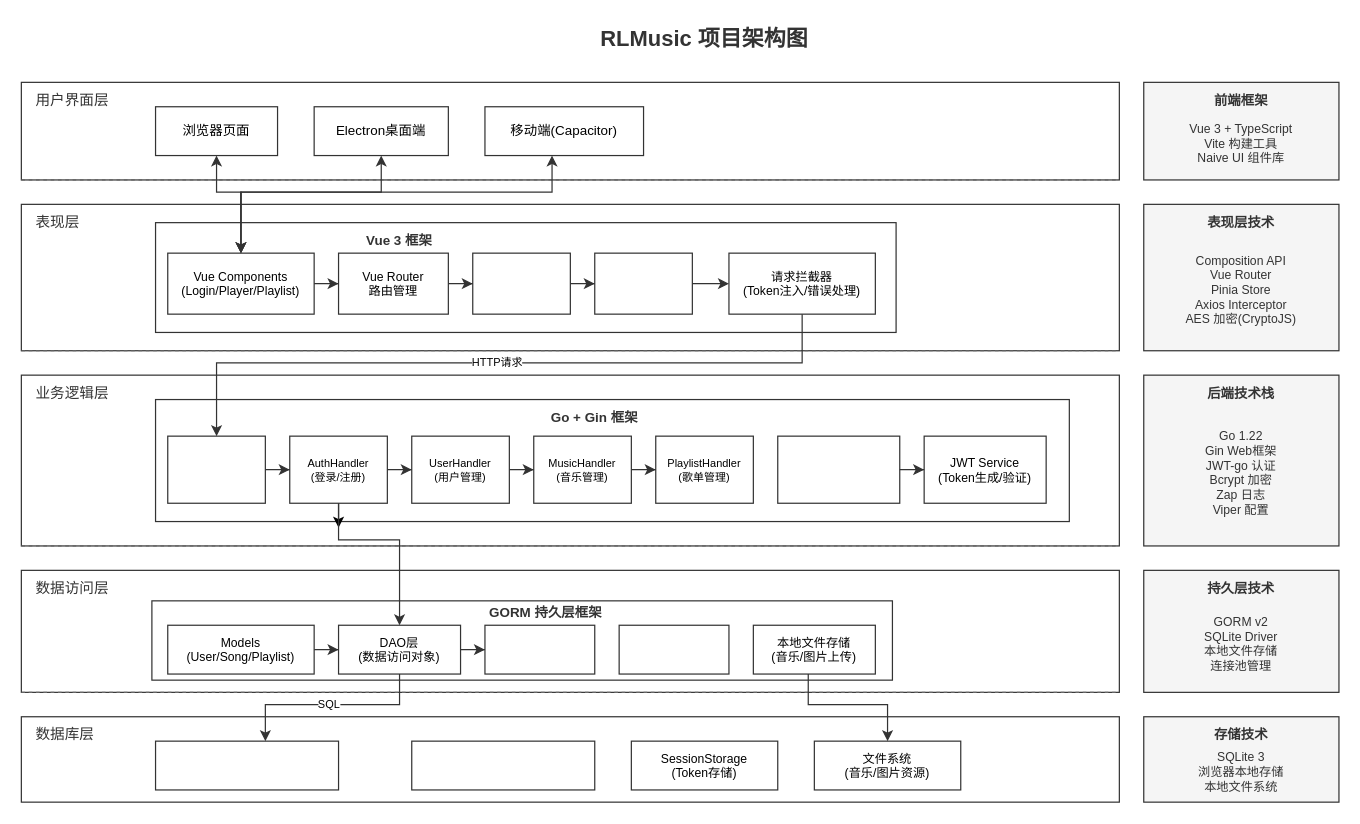
Image size: 1360x824. Some labels were removed from this diagram. Here are the shapes that lost their labels. From the top down, the box of each, then its label:
(472, 252, 570, 314): Pinia 状态管理
(594, 252, 692, 314): Axios HTTP客户端
(167, 435, 265, 503): Handlers (HTTP处理器)
(777, 435, 900, 503): Middleware (JWT认证/CORS/限流)
(484, 624, 595, 674): AutoMigrate (自动迁移)
(618, 624, 729, 674): 软删除 (is_delete)
(154, 740, 339, 790): SQLite数据库 (本地文件存储)
(411, 740, 595, 790): LocalStorage (记住密码/用户信息)
